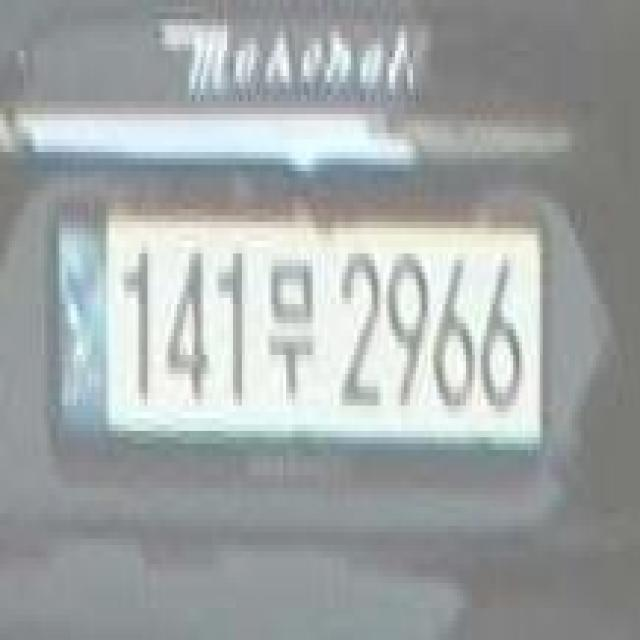illegal_plate: (47, 189, 551, 493)
